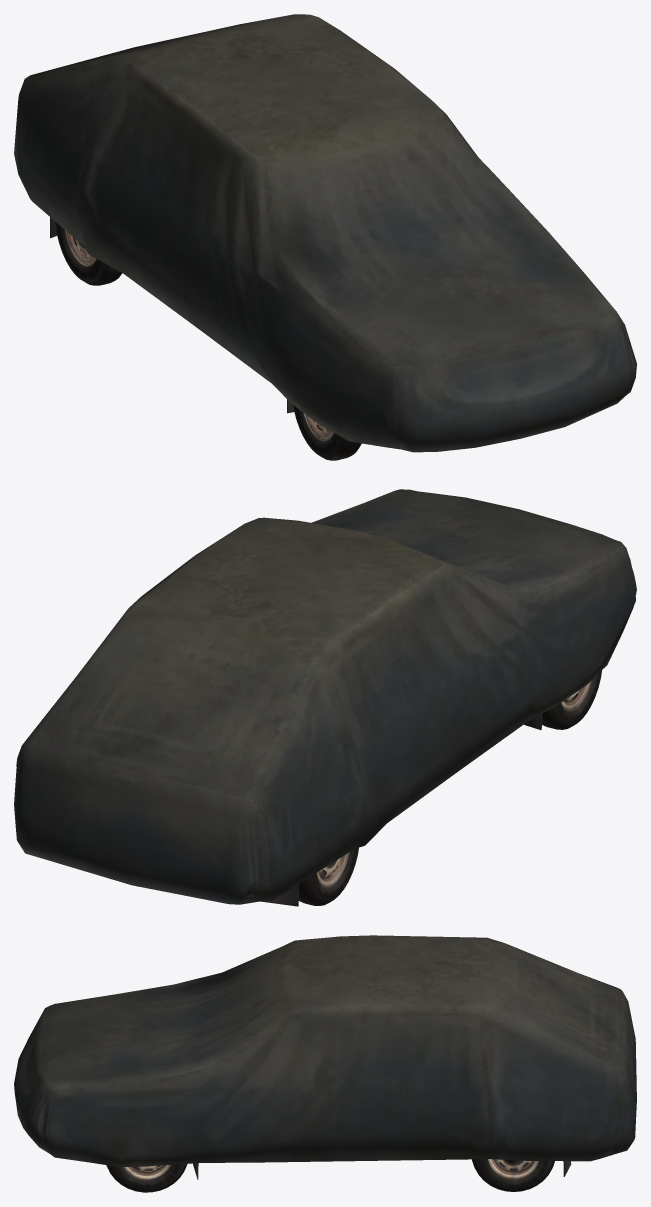
File: car_covered_wreck.glb
The picture shows the model from 3 angles, top to bottom: view 1: azimuth 30°, elevation 25°; view 2: azimuth 150°, elevation 25°; view 3: azimuth 270°, elevation 25°; orthographic projection. The views are drawn at different scales.
Parts seen in each view (by area): view 1: covered_car, covered_car_wheel_03, covered_car_wheel_02; view 2: covered_car, covered_car_wheel_03, covered_car_wheel_02; view 3: covered_car, covered_car_wheel_04, covered_car_wheel_01.
Part boxes in pixels (box(x1,y1,x2,y2)): covered_car: box(14, 14, 636, 452); covered_car_wheel_03: box(55, 222, 122, 285); covered_car_wheel_02: box(293, 405, 361, 460); covered_car: box(14, 489, 636, 906); covered_car_wheel_03: box(298, 847, 358, 905); covered_car_wheel_02: box(542, 670, 601, 729); covered_car: box(14, 935, 636, 1179); covered_car_wheel_04: box(472, 1159, 554, 1191); covered_car_wheel_01: box(106, 1163, 187, 1192).
Bounding box in the file's own units: 1.79 × 1.41 × 4.38.
1 material, 1 textured.
